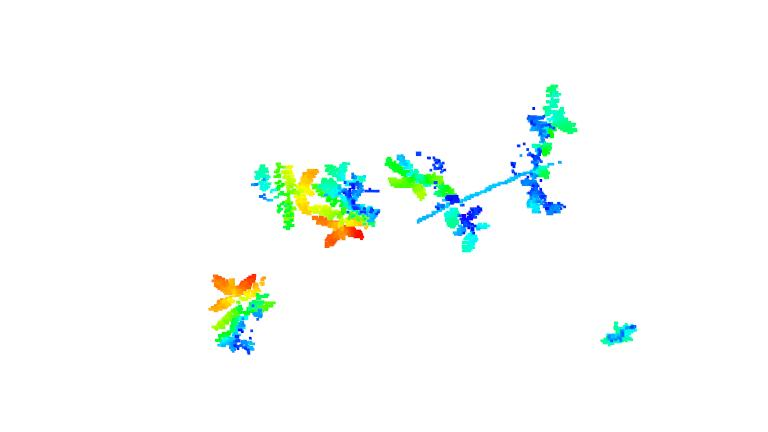chickpea: (383, 150, 489, 251), (518, 82, 581, 216), (313, 161, 376, 250), (211, 268, 274, 353), (251, 155, 320, 231)
